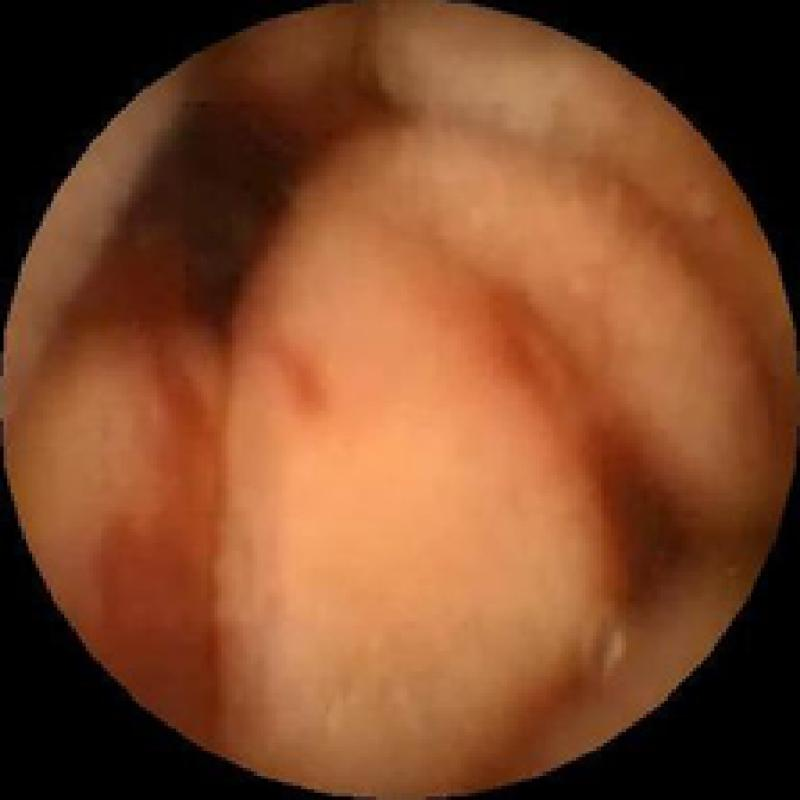bleeding: (75, 246, 226, 702), (491, 290, 651, 570), (261, 93, 375, 168)
